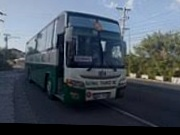bus: (21, 8, 130, 109)
